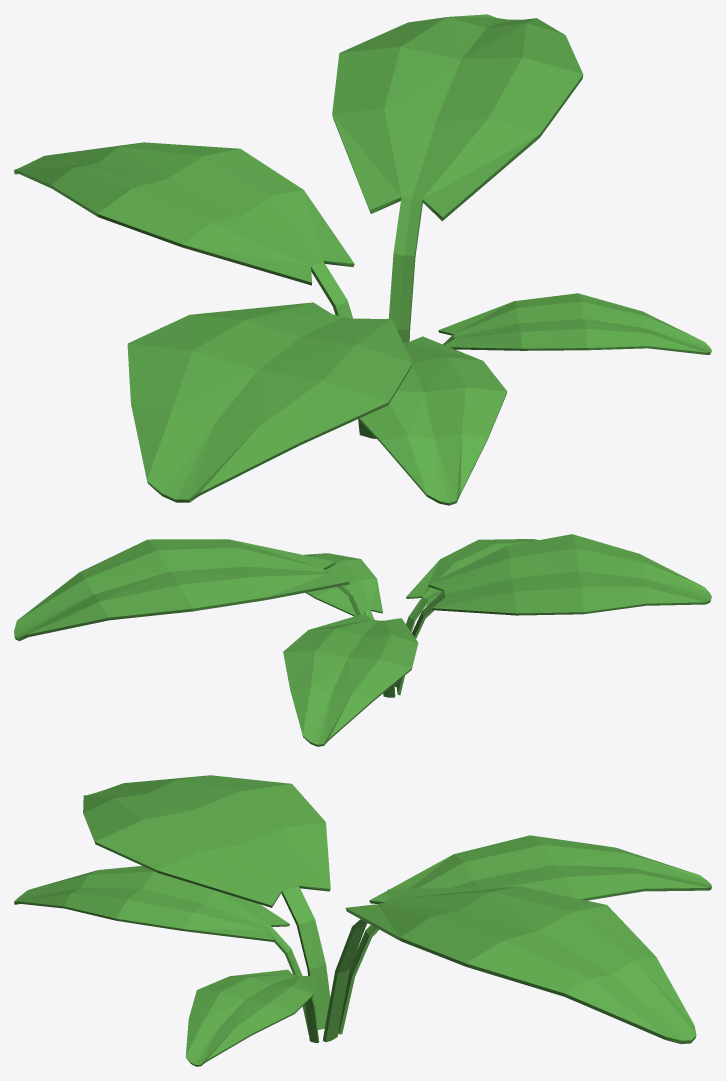
File: plant01.fbx
3 renders of one model, top to bottom at view 1: azimuth 30°, elevation 25°; view 2: azimuth 150°, elevation 25°; view 3: azimuth 270°, elevation 25°, orthographic. The views are drawn at different scales.
Visible parts, largest first — view 1: plant01_LOD0; view 2: plant01_LOD0; view 3: plant01_LOD0.
Part boxes in pixels (left/top/right/bottom): plant01_LOD0: left=14, top=14, right=711, bottom=505; plant01_LOD0: left=14, top=534, right=711, bottom=746; plant01_LOD0: left=14, top=775, right=711, bottom=1066.
Size of what is drawn, in the model's own units: 86.98 by 27.29 by 89.6.
